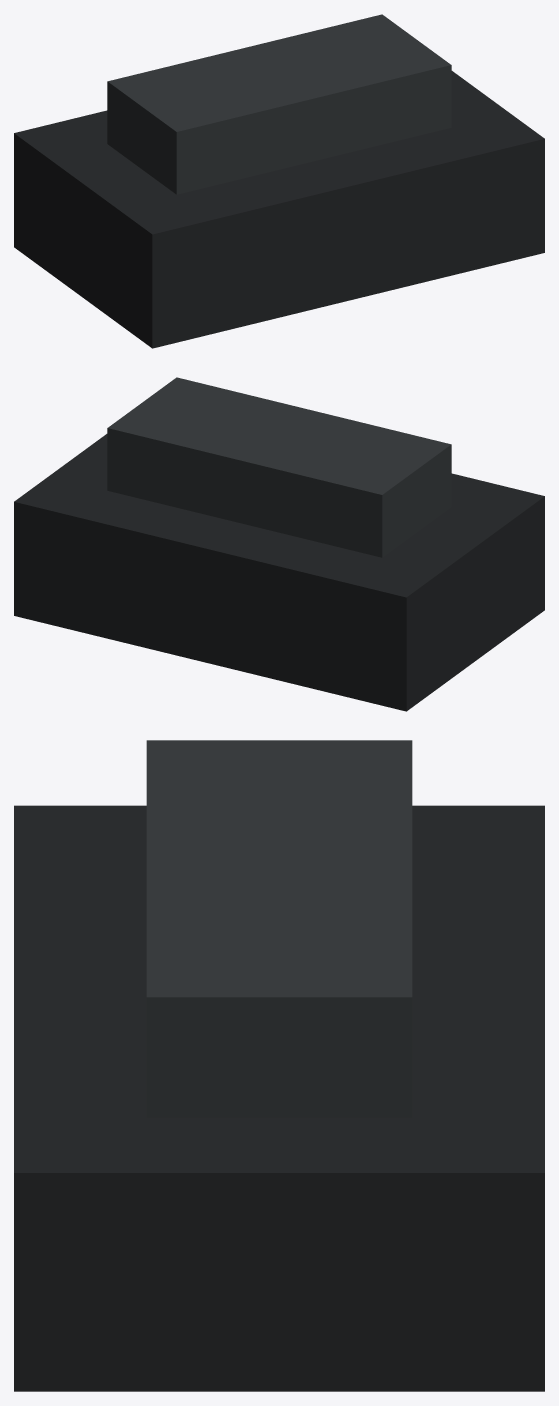
File: track_link.glb
3 views of the same model, one above another, from view 1: azimuth 30°, elevation 25°; view 2: azimuth 150°, elevation 25°; view 3: azimuth 270°, elevation 25° (orthographic). The views are drawn at different scales.
Visible parts, largest first — view 1: track_link; view 2: track_link; view 3: track_link.
Boxes of the visible parts, x1,y1,x2,y2 form: track_link: (14, 14, 544, 348); track_link: (14, 377, 544, 711); track_link: (14, 740, 544, 1391).
Bounding box in the file's own units: 0.18 × 0.0775 × 0.11.
Materials: 1 (1 with a texture image).
